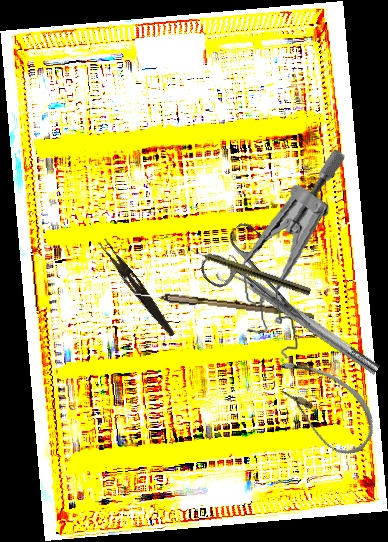Cannula: (258, 348, 388, 464)
Dressing Forceps: (95, 238, 180, 338)
Fixation Ring: (214, 252, 385, 384)
Handpiece: (182, 243, 313, 297)
Iris Scissors: (195, 218, 332, 354)
Speculum: (225, 148, 368, 365)
Surgical Spoon: (110, 287, 315, 319)
